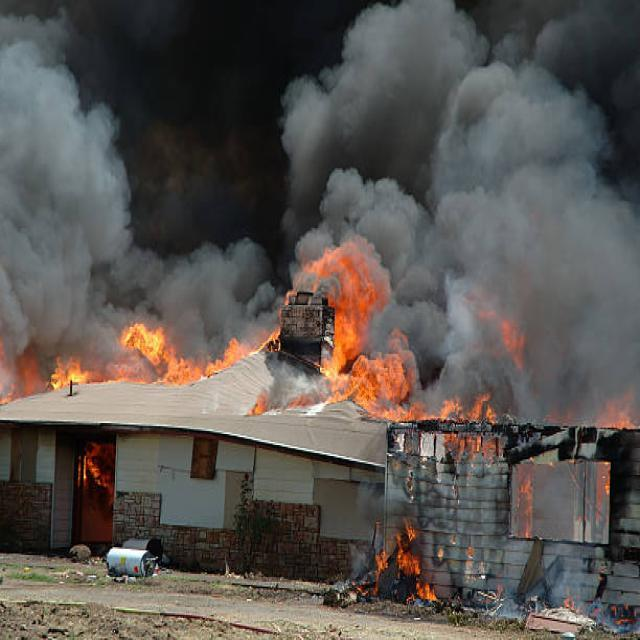Fire: (44, 288, 284, 402), (306, 230, 436, 410), (374, 508, 464, 618), (438, 380, 546, 465), (492, 294, 544, 386), (597, 386, 640, 484)
Smoke: (300, 17, 637, 383), (0, 2, 219, 330), (180, 0, 392, 279)
